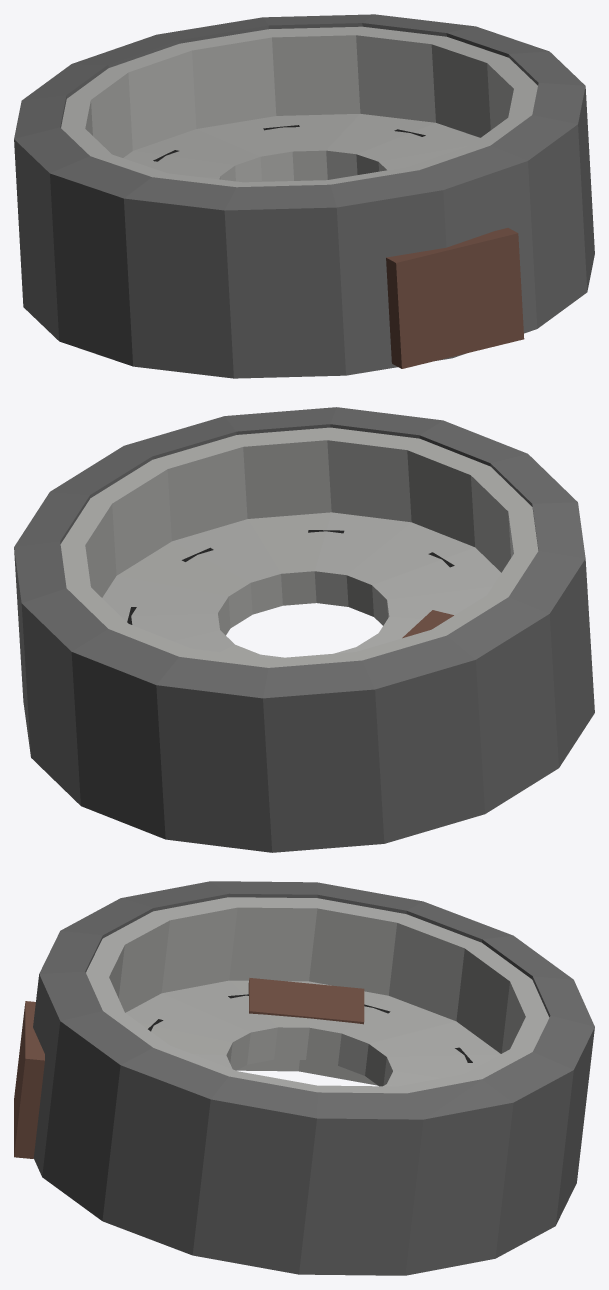
The model's file is junk_giant_wheel.obj.
The picture shows the model from 3 angles, top to bottom: view 1: azimuth 30°, elevation 25°; view 2: azimuth 150°, elevation 25°; view 3: azimuth 270°, elevation 25°; orthographic projection. The views are drawn at different scales.
Visible parts, largest first — view 1: junk_giant_wheel_0, junk_giant_wheel_1, junk_giant_wheel_11; view 2: junk_giant_wheel_0, junk_giant_wheel_1; view 3: junk_giant_wheel_0, junk_giant_wheel_1, junk_giant_wheel_10, junk_giant_wheel_11.
Part boxes in pixels (x1,y1,x2,y2): junk_giant_wheel_0: [14, 14, 594, 378]; junk_giant_wheel_1: [61, 26, 537, 187]; junk_giant_wheel_11: [386, 228, 524, 368]; junk_giant_wheel_0: [14, 407, 594, 852]; junk_giant_wheel_1: [60, 427, 538, 667]; junk_giant_wheel_0: [33, 881, 594, 1275]; junk_giant_wheel_1: [86, 897, 549, 1093]; junk_giant_wheel_10: [248, 978, 364, 1024]; junk_giant_wheel_11: [14, 1001, 44, 1158].
Bounding box in the file's own units: 1.84 × 0.7776 × 1.91.
